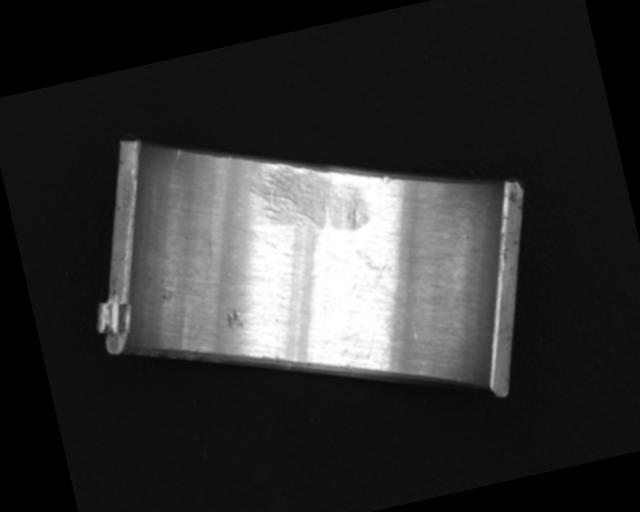blot: (341, 237, 404, 304)
bruise: (223, 307, 246, 332), (379, 173, 394, 185)
nick: (170, 148, 182, 163)
scratch: (242, 146, 373, 253)
